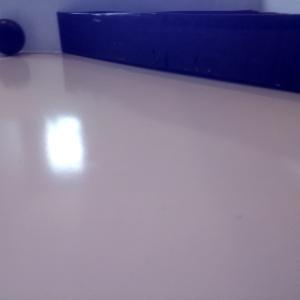zone: (57, 10, 300, 93)
